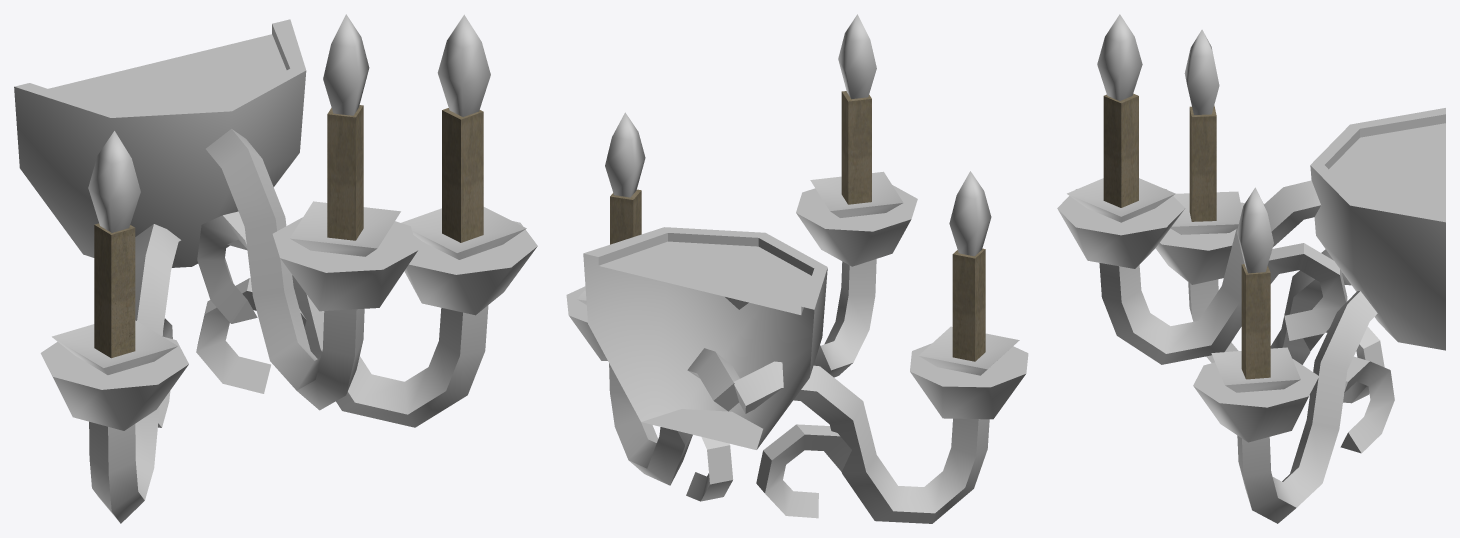
The model's file is Prop_Light_02.FBX.
3 renders of one model, left to right at view 1: azimuth 30°, elevation 25°; view 2: azimuth 150°, elevation 25°; view 3: azimuth 270°, elevation 25°, orthographic. The views are drawn at different scales.
Parts seen in each view (by area): view 1: Prop_Light_02; view 2: Prop_Light_02; view 3: Prop_Light_02.
Boxes of the visible parts, box(x1,y1,x2,y2) form: Prop_Light_02: box(14, 14, 537, 523); Prop_Light_02: box(566, 14, 1028, 523); Prop_Light_02: box(1057, 14, 1445, 523).
Bounding box in the file's own units: 0.4649 × 0.4553 × 0.3622.
